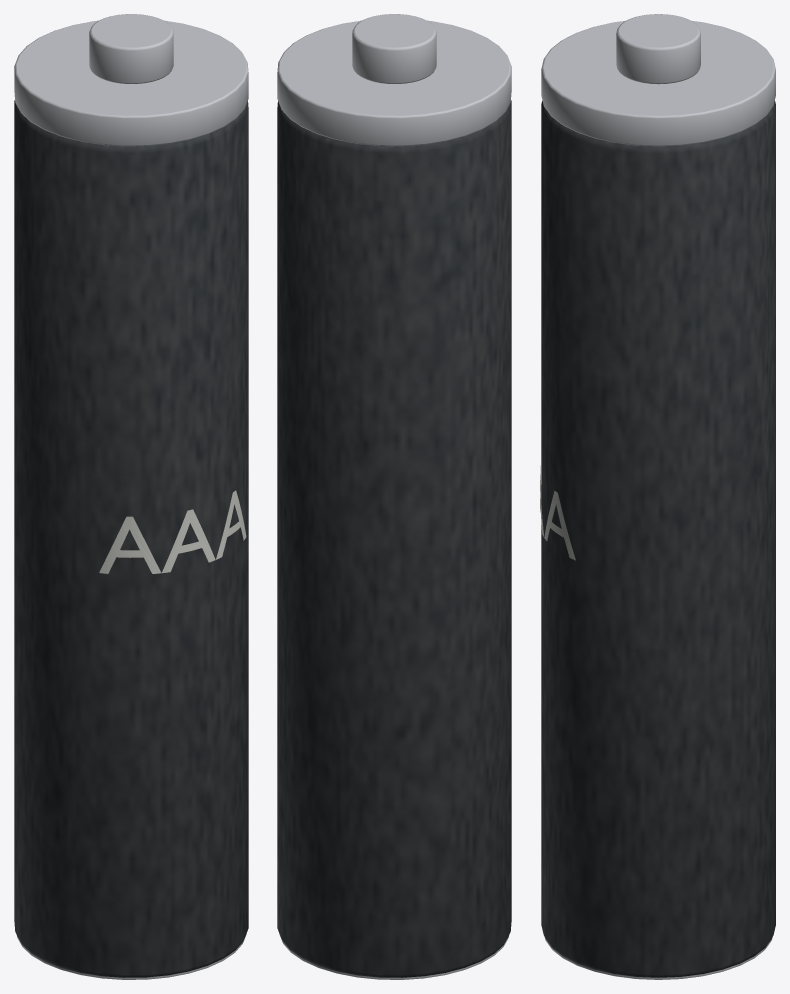
Rendered from BatteryAAA-v1.fbx.
3 views of the same model, side by side, from view 1: azimuth 30°, elevation 25°; view 2: azimuth 150°, elevation 25°; view 3: azimuth 270°, elevation 25° (orthographic).
Parts seen in each view (by area): view 1: PW_BatteryAAA; view 2: PW_BatteryAAA; view 3: PW_BatteryAAA.
Boxes of the visible parts, x1=… form: PW_BatteryAAA: x1=14, y1=14, x2=248, y2=979; PW_BatteryAAA: x1=277, y1=14, x2=511, y2=979; PW_BatteryAAA: x1=540, y1=14, x2=775, y2=979.
Size of the model in its own units: 1.05 by 4.45 by 1.06.
Materials: 1 (1 with a texture image).
